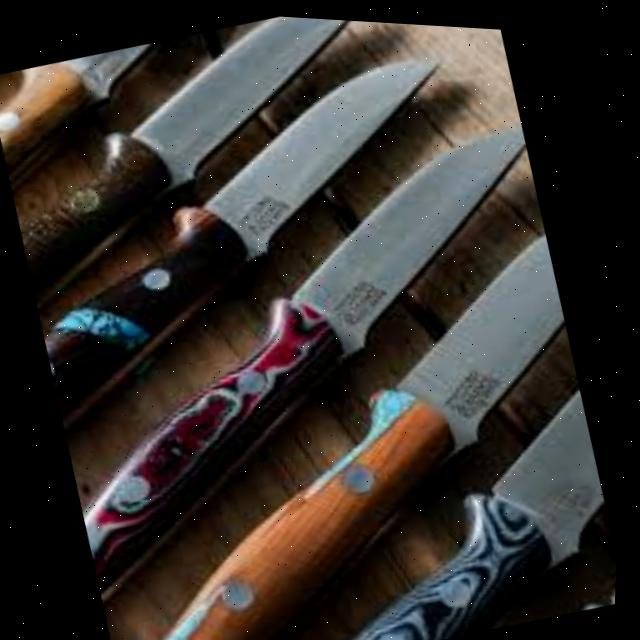knife: (32, 190, 633, 640), (0, 24, 517, 467), (0, 0, 444, 364), (0, 21, 237, 237)
